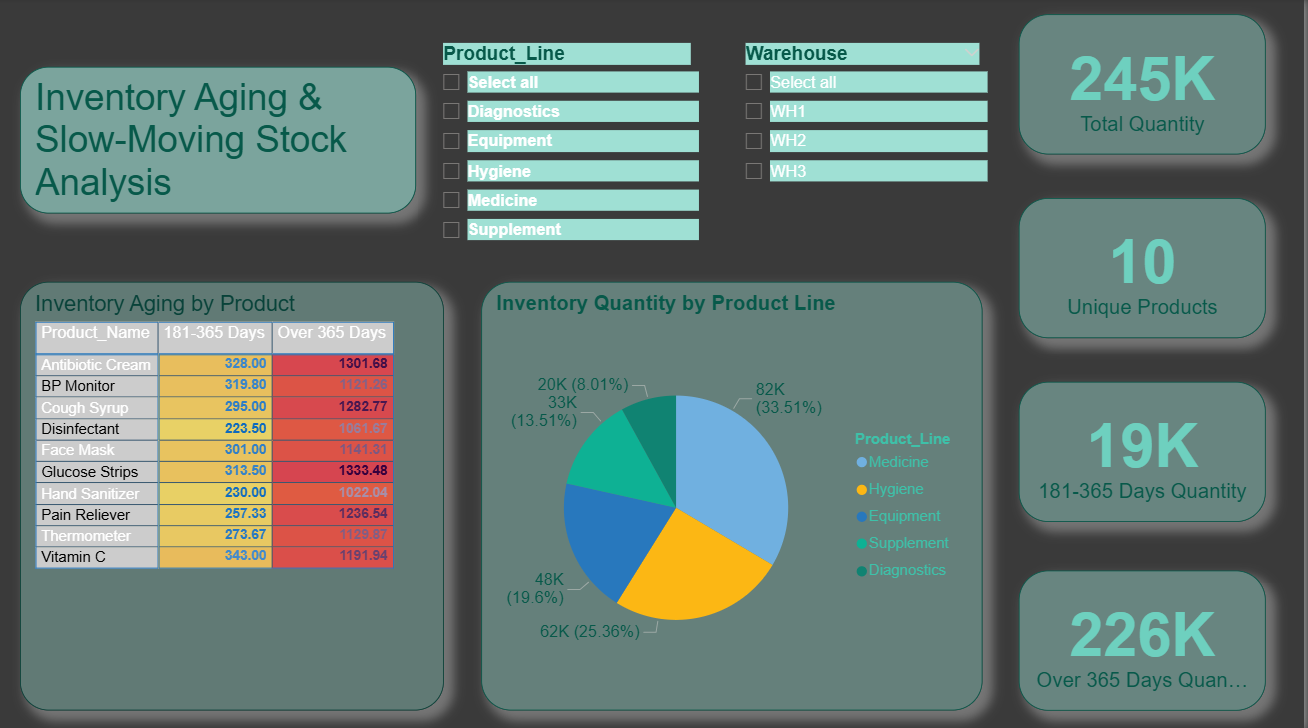

This screenshot's page, from the dashboard's own definition file:
{"tool":"powerbi","page":{"name":"Page 1","canvas":[1280,720],"ordinal":0},"visuals":[{"type":"pivotTable","title":"Inventory Aging by Product","fields":{"Rows":["inventory_aging_dataset.Product_Name"],"Columns":["inventory_aging_dataset.Age_Range"],"Values":["Avg(inventory_aging_dataset.Aging_Days)"]},"box":[19.6,278.5,416,420.9],"z":0},{"type":"slicer","fields":{"Values":["inventory_aging_dataset.Warehouse"]},"box":[719.4,39.6,255.1,215.4],"z":1000},{"type":"slicer","fields":{"Values":["inventory_aging_dataset.Product_Line"]},"box":[422.2,39.6,268.7,225.3],"z":2000},{"type":"card","fields":{"Values":["inventory_aging_dataset.Total Quantity"]},"box":[999.4,16.3,242.5,137.5],"z":3000},{"type":"card","fields":{"Values":["inventory_aging_dataset.Unique Products"]},"box":[999.4,196.6,242.5,137.5],"z":4000},{"type":"card","fields":{"Values":["inventory_aging_dataset.181-365 Days Quantity"]},"box":[999.4,377,242.5,137.5],"z":5000},{"type":"card","fields":{"Values":["inventory_aging_dataset.Over 365 Days Quantity"]},"box":[999.4,561.8,242.5,137.5],"z":6000},{"type":"pieChart","title":"Inventory Quantity by Product Line","fields":{"Category":["inventory_aging_dataset.Product_Line"],"Y":["Sum(inventory_aging_dataset.Quantity)"]},"box":[472.4,278.5,492,420.9],"z":7000},{"type":"textbox","title":"Inventory Aging & Slow-Moving Stock Analysis","box":[19.8,68.1,388.8,143.6],"z":8000}]}

Visuals, with their boxes in screenshot pixels (x1, y1, x2, y2), scaled from the page's 1280x720 canvas onto the 1308x728 screenshot:
"Inventory Aging by Product" pivotTable: box(20, 282, 445, 707)
slicer - inventory_aging_dataset.Warehouse: box(735, 40, 996, 258)
slicer - inventory_aging_dataset.Product_Line: box(431, 40, 706, 268)
card - inventory_aging_dataset.Total Quantity: box(1021, 16, 1269, 156)
card - inventory_aging_dataset.Unique Products: box(1021, 199, 1269, 338)
card - inventory_aging_dataset.181-365 Days Quantity: box(1021, 381, 1269, 520)
card - inventory_aging_dataset.Over 365 Days Quantity: box(1021, 568, 1269, 707)
"Inventory Quantity by Product Line" pieChart: box(483, 282, 985, 707)
"Inventory Aging & Slow-Moving Stock Analysis" textbox: box(20, 69, 418, 214)
